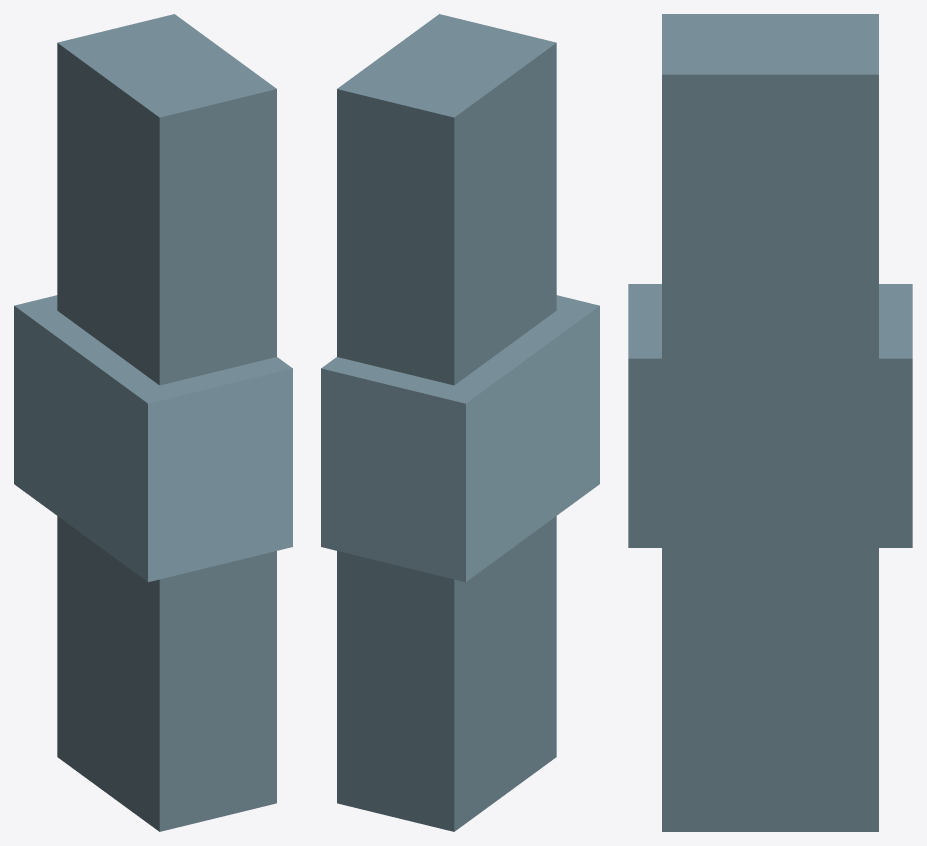
The model's file is chimney.obj.
3 views of the same model, side by side, from view 1: azimuth 30°, elevation 25°; view 2: azimuth 150°, elevation 25°; view 3: azimuth 270°, elevation 25° (orthographic). The views are drawn at different scales.
Parts seen in each view (by area): view 1: chimney; view 2: chimney; view 3: chimney.
Boxes of the visible parts, box(x1,y1,x2,y2) form: chimney: box(14, 14, 292, 831); chimney: box(321, 14, 599, 831); chimney: box(628, 14, 912, 831).
Bounding box in the file's own units: 0.212 × 1 × 0.34.
